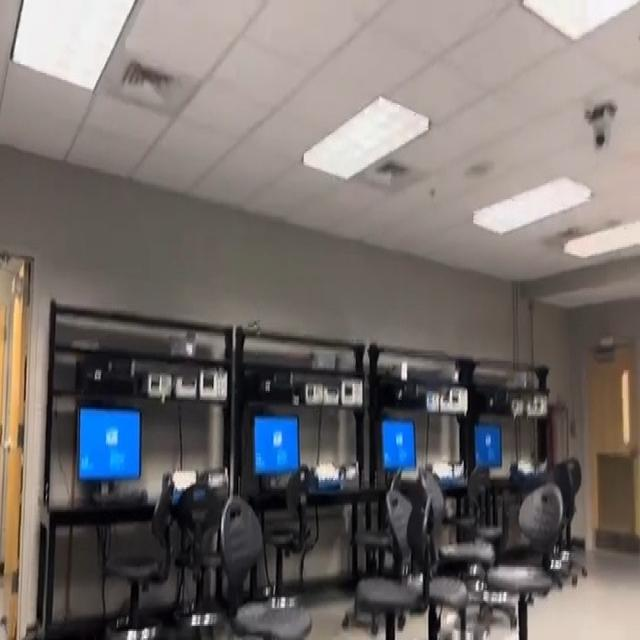drone: (244, 313, 266, 345)
